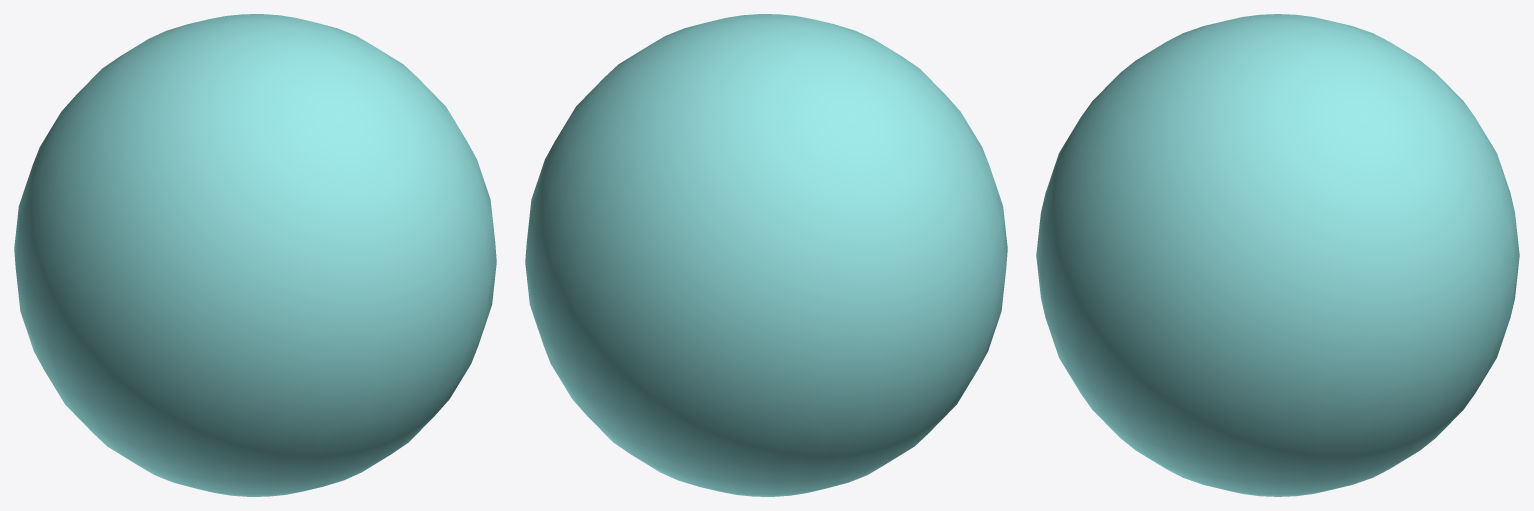
The picture shows the model from 3 angles, left to right: view 1: azimuth 30°, elevation 25°; view 2: azimuth 150°, elevation 25°; view 3: azimuth 270°, elevation 25°; orthographic projection.
Visible parts, largest first — view 1: bubble; view 2: bubble; view 3: bubble.
Part boxes in pixels (x1,y1,x2,y2): bubble: (14,14,496,496); bubble: (525,14,1007,496); bubble: (1036,14,1519,496).
Size of the model in its own units: 11.8 by 11.8 by 11.8.
